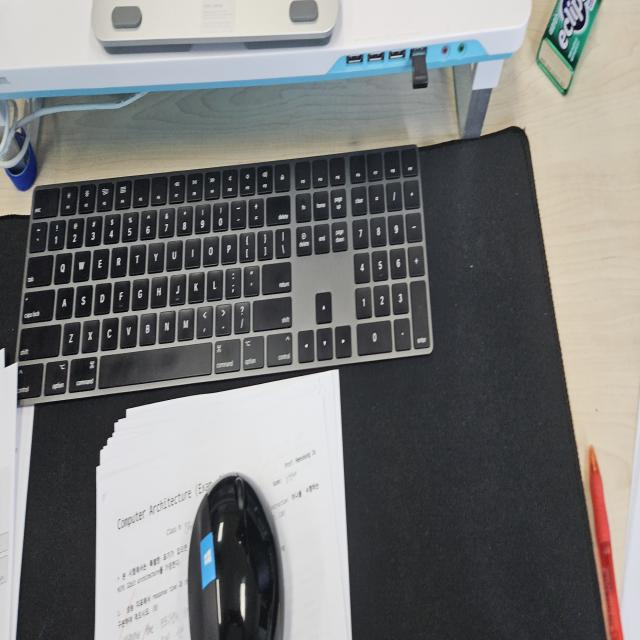Keyboard: (14, 142, 434, 405)
Mouse: (186, 470, 282, 637)
